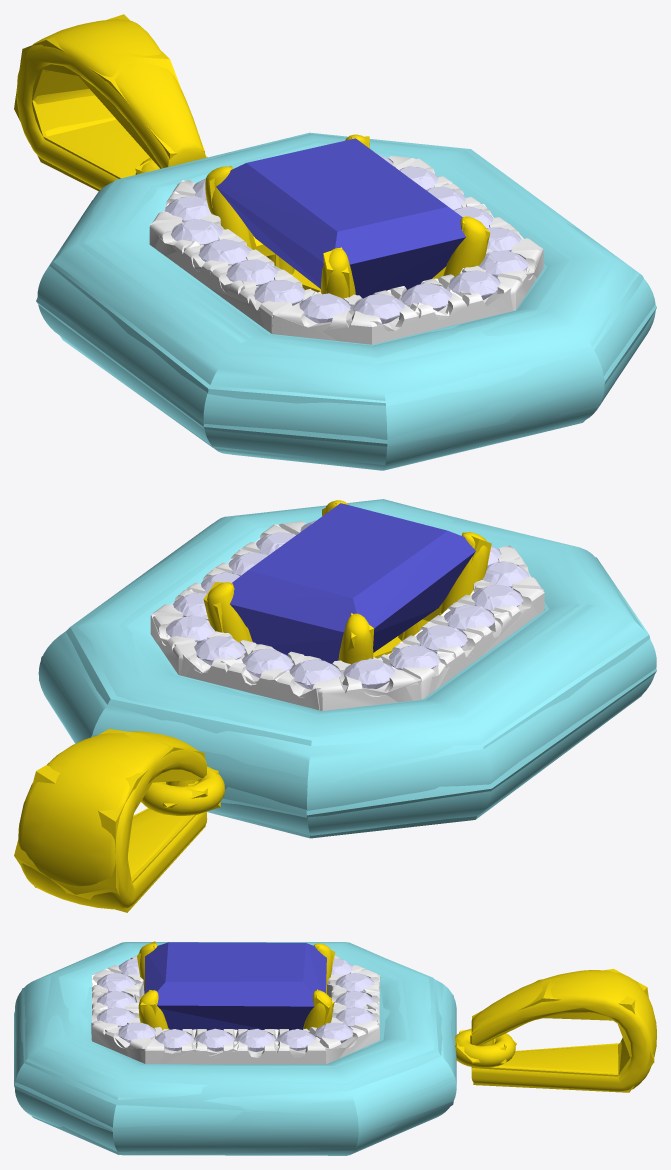
The model's file is DPN-D000677453.glb.
3 renders of one model, top to bottom at view 1: azimuth 30°, elevation 25°; view 2: azimuth 150°, elevation 25°; view 3: azimuth 270°, elevation 25°, orthographic. The views are drawn at different scales.
Visible parts, largest first — view 1: highPolyMesh, lowPolyMesh; view 2: highPolyMesh, lowPolyMesh; view 3: highPolyMesh, lowPolyMesh.
Part boxes in pixels (x1,y1,x2,y2): highPolyMesh: [16, 19, 655, 470]; lowPolyMesh: [14, 14, 656, 470]; highPolyMesh: [18, 500, 656, 909]; lowPolyMesh: [14, 499, 656, 912]; highPolyMesh: [15, 942, 656, 1155]; lowPolyMesh: [14, 941, 654, 1155].
Size of the model in its own units: 0.0142 by 0.00515 by 0.0235.
